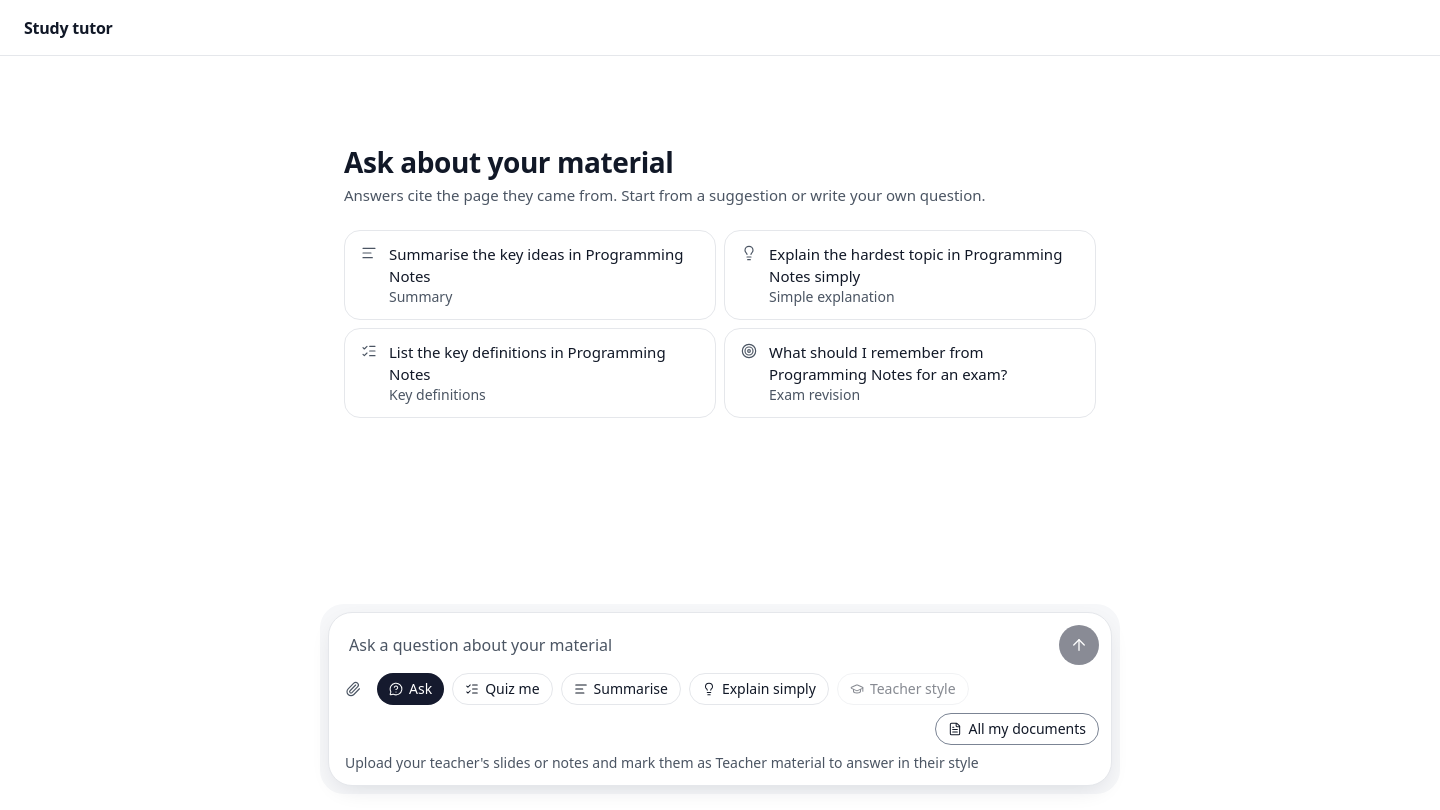
TutorView: Stop › stops with Escape
Type "What is recursion?" into the text box named "Your question" at coordinates (694, 645), box x1=341 y1=625 x2=1047 y2=665
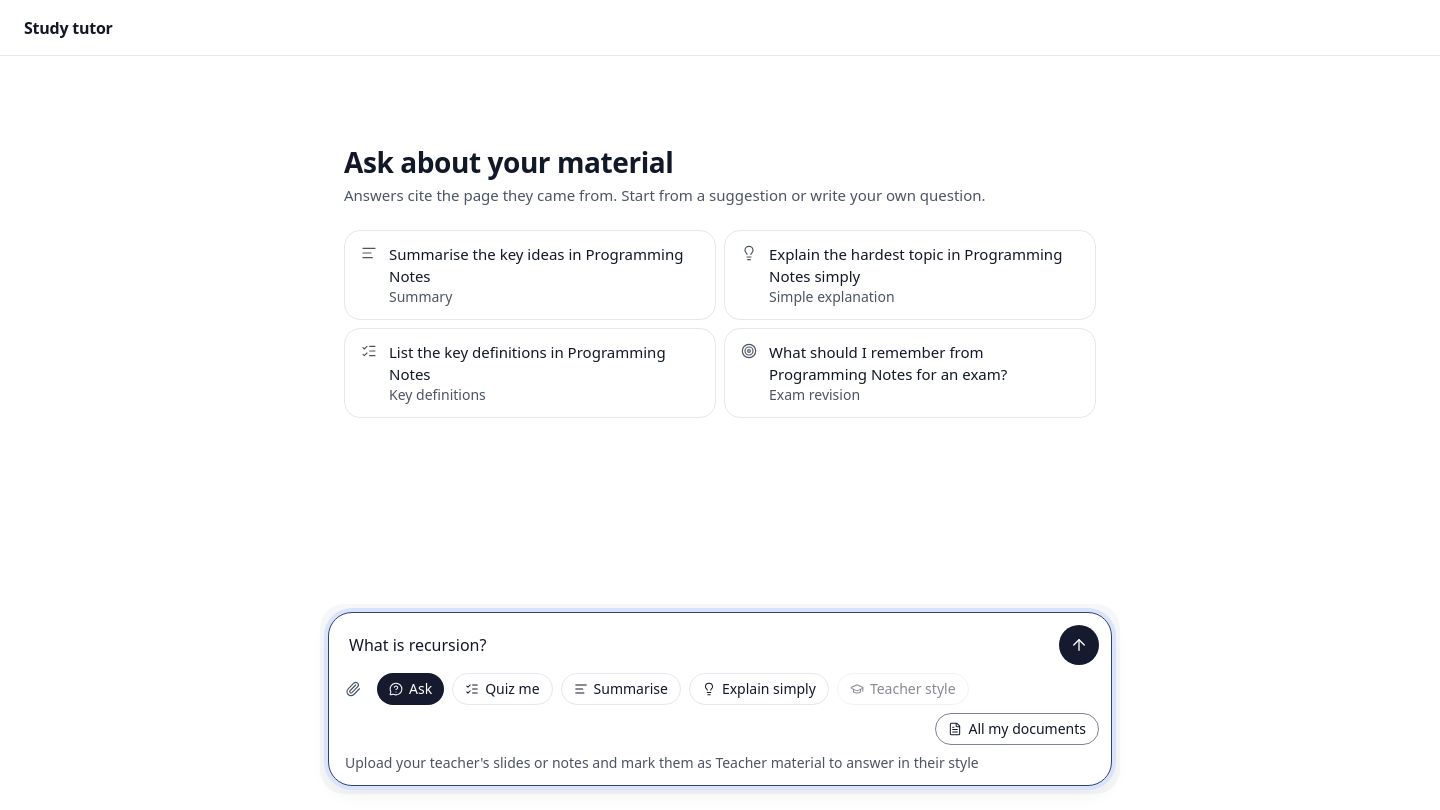
Click the button named "Send question" at coordinates (1079, 645), box x1=1059 y1=625 x2=1099 y2=665
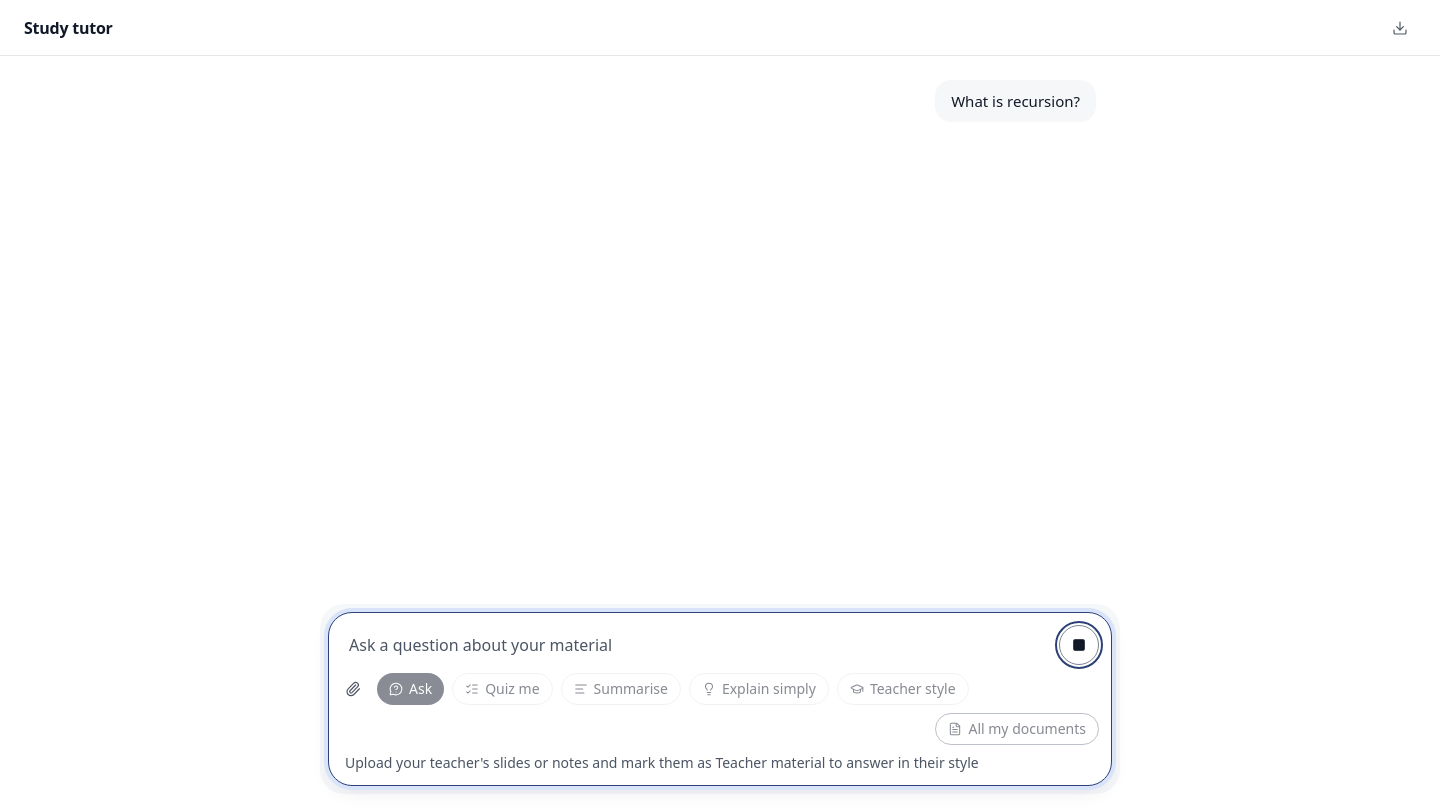
Press Escape
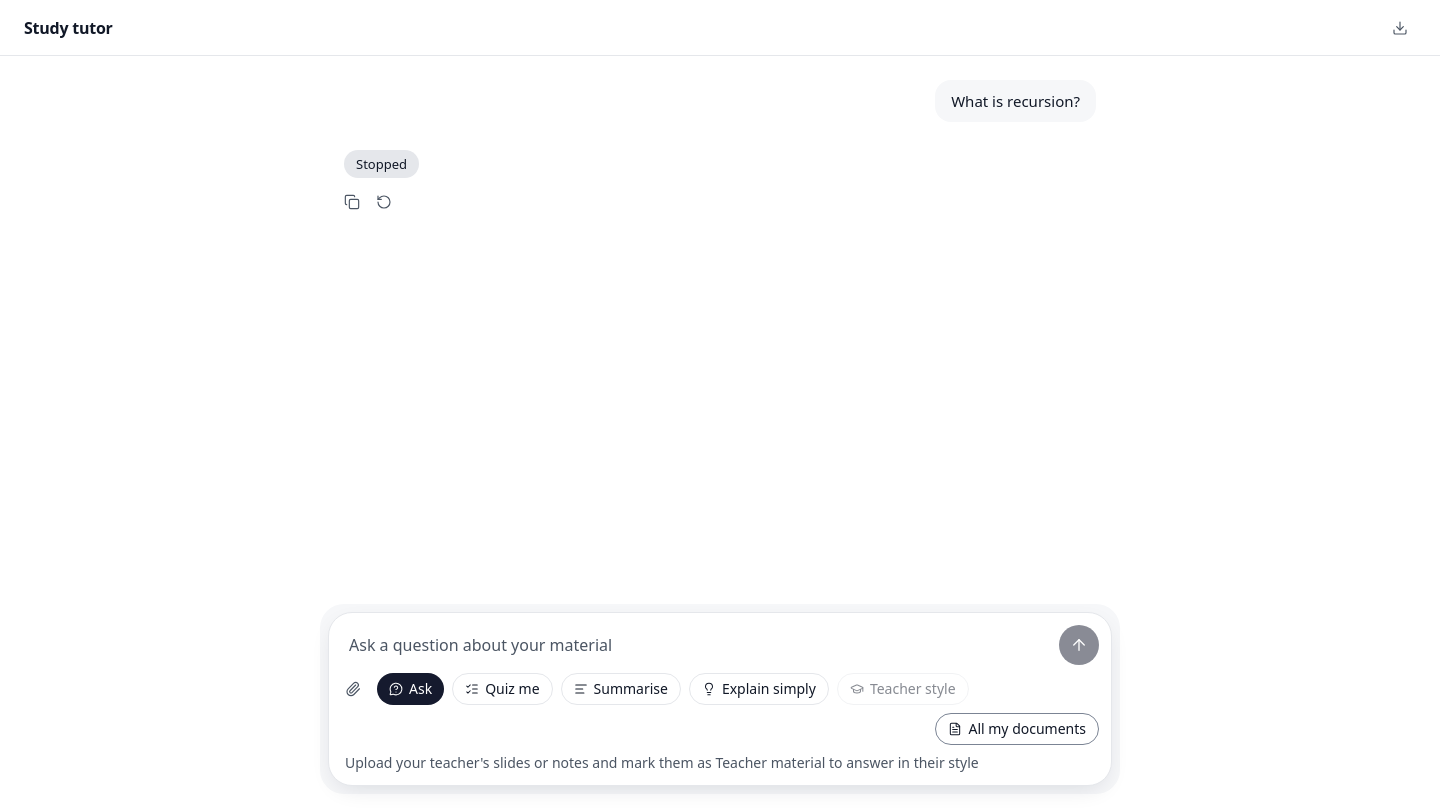
expect the text "Stopped" is shown: met, box x1=344 y1=150 x2=419 y2=178
